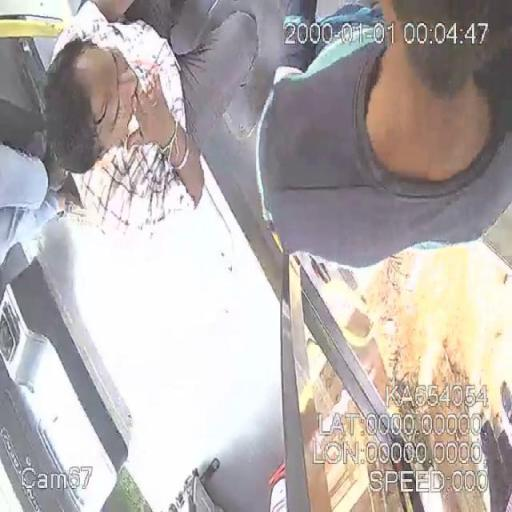persona: (256, 0, 510, 268), (40, 1, 254, 237)
